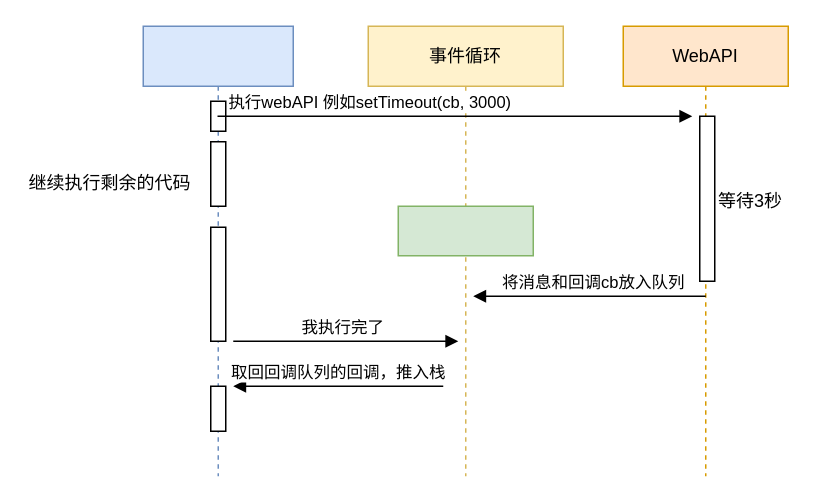
Some shapes in this 815 by 503 pixel diagram are drawn without their labels. The shapes that lost their labels are listed below. From the top down, each one's centre as x and y in pixels, then its label:
[217,250]: Javascript 线程
[465,230]: 回调队列
